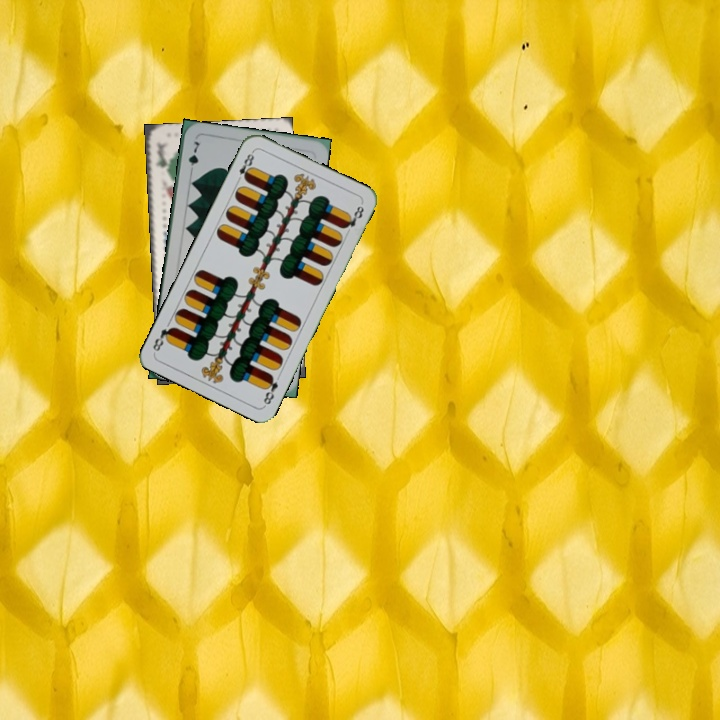E8: (233, 147, 257, 185), (259, 371, 281, 408)
G7: (184, 137, 203, 177)
GK: (151, 142, 169, 177)
